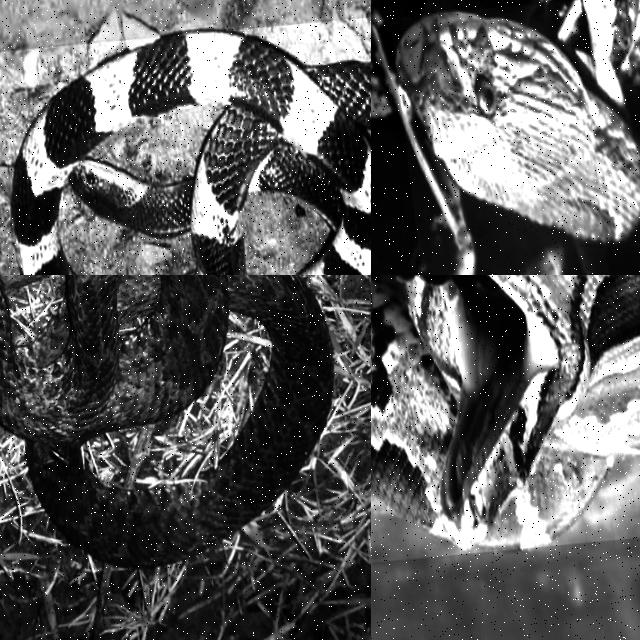Bungarus candidus: (11, 31, 370, 274)
Daboia siamensis: (396, 10, 639, 245)
Ovophis monticola: (0, 275, 333, 567)
Python bivittatus: (371, 275, 639, 548)
snake: (0, 275, 333, 567), (11, 31, 370, 274), (371, 275, 639, 548), (396, 10, 639, 245)
